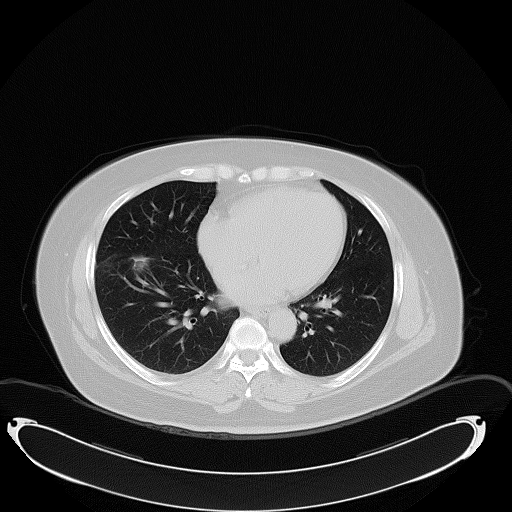nodule: (130, 255, 150, 272)
